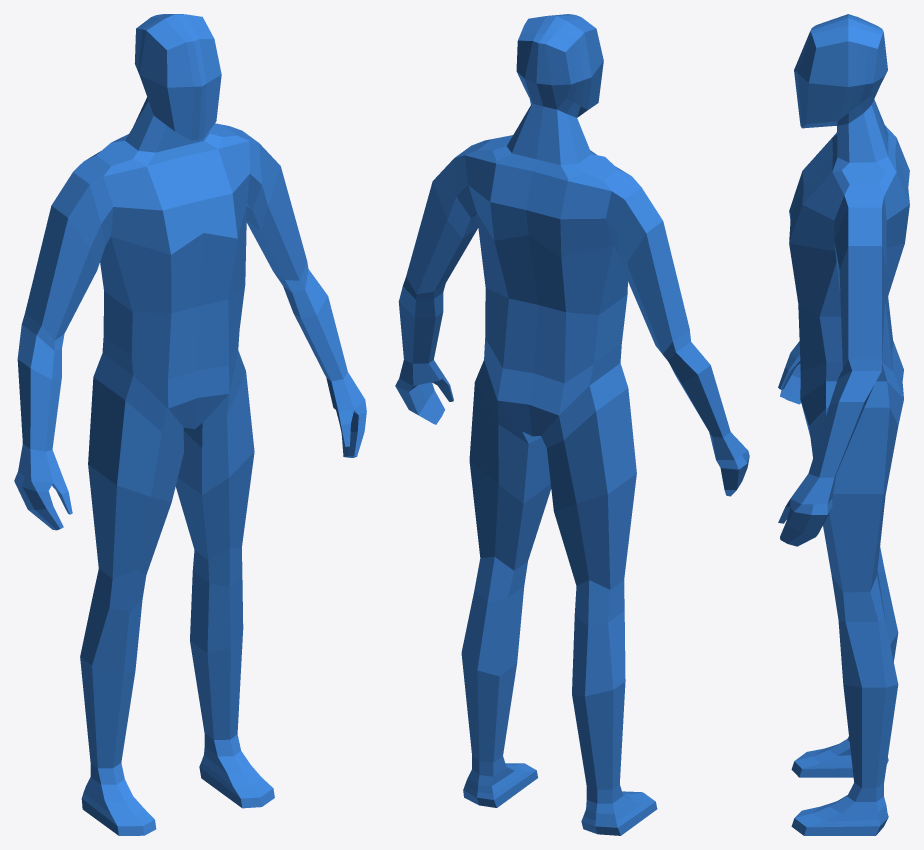
Rendered from onemeshman.glb.
The picture shows the model from 3 angles, left to right: view 1: azimuth 30°, elevation 25°; view 2: azimuth 150°, elevation 25°; view 3: azimuth 270°, elevation 25°; orthographic projection.
Parts seen in each view (by area): view 1: BaseMesh; view 2: BaseMesh; view 3: BaseMesh.
Part boxes in pixels (left/top/right/bottom): BaseMesh: left=14, top=14, right=366, bottom=835; BaseMesh: left=395, top=14, right=749, bottom=835; BaseMesh: left=778, top=14, right=909, bottom=835.
Bounding box in the file's own units: 0.8385 × 1.84 × 0.2824.
